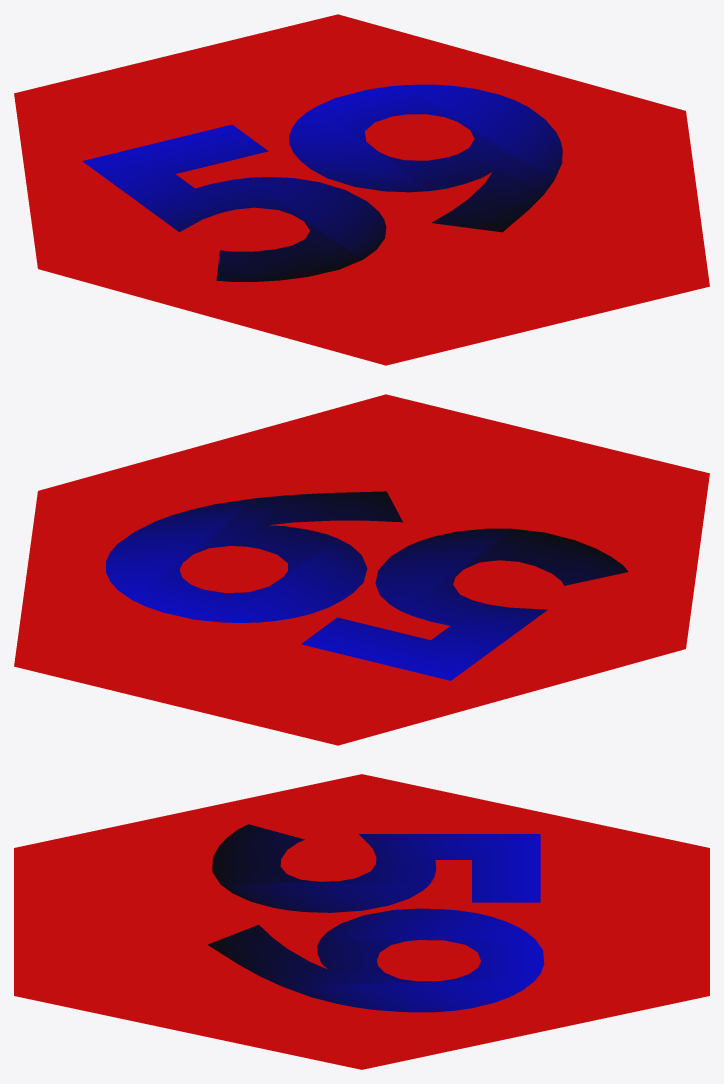
File: SM_Number_59.fbx
3 views of the same model, one above another, from view 1: azimuth 30°, elevation 25°; view 2: azimuth 150°, elevation 25°; view 3: azimuth 270°, elevation 25° (orthographic). The views are drawn at different scales.
Parts seen in each view (by area): view 1: FBX_OUT; view 2: FBX_OUT; view 3: FBX_OUT.
Boxes of the visible parts, <box> form: FBX_OUT: <box>14,14,709,365</box>; FBX_OUT: <box>14,394,709,745</box>; FBX_OUT: <box>14,774,709,1069</box>.
Size of the model in its own units: 50 by 0.2917 by 49.71.
